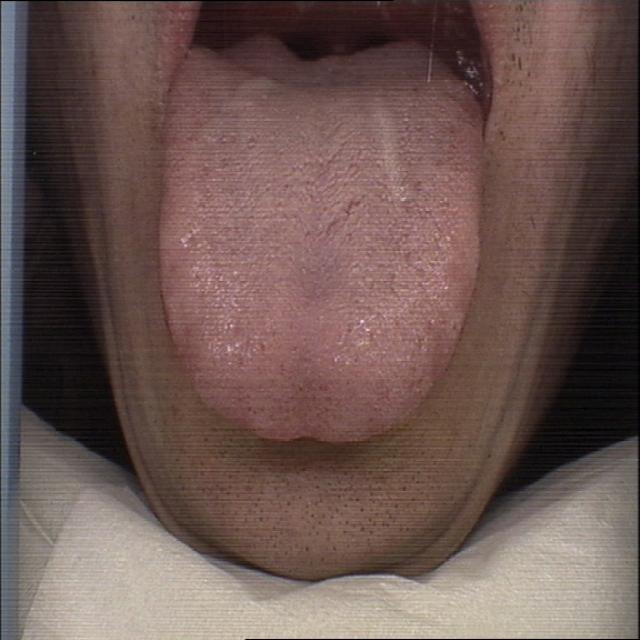tongue: (155, 39, 488, 451)
